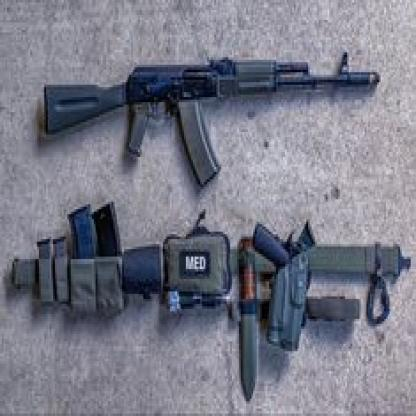Gun: (44, 51, 381, 189)
Knife: (237, 235, 259, 401)
Pistol: (252, 216, 316, 354)
